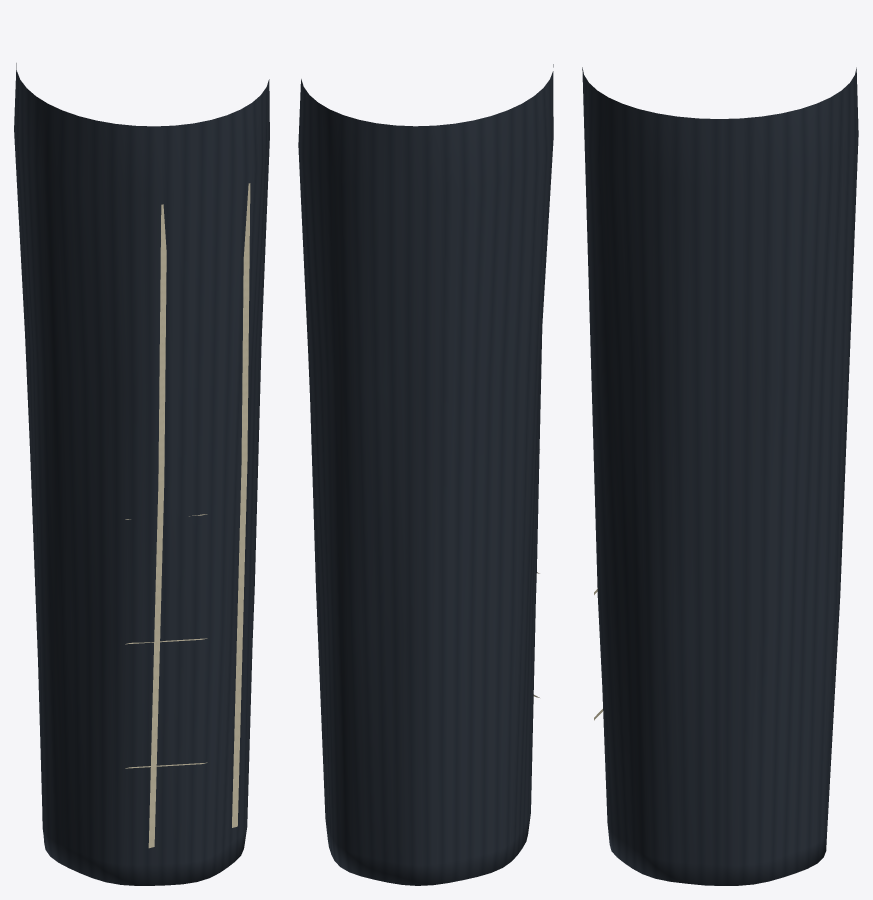
The model's file is reference_pajama_pants.gltf.
3 renders of one model, left to right at view 1: azimuth 30°, elevation 25°; view 2: azimuth 150°, elevation 25°; view 3: azimuth 270°, elevation 25°, orthographic.
Visible parts, largest first — view 1: LegL; view 2: LegL; view 3: LegL.
Boxes of the visible parts, x1=… form: LegL: x1=14, y1=63, x2=269, y2=885; LegL: x1=298, y1=64, x2=553, y2=885; LegL: x1=582, y1=67, x2=858, y2=885.
Size of the model in its own units: 0.2182 by 0.749 by 0.2397.
2 materials, 2 textured.
